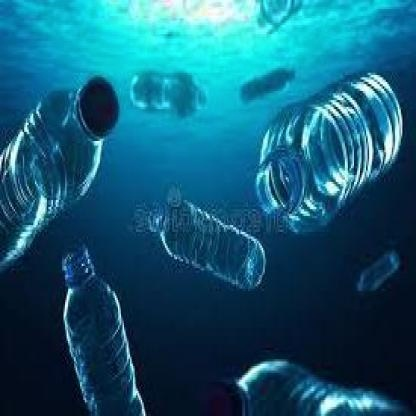pbottle: (247, 63, 410, 236), (2, 73, 127, 277), (51, 241, 153, 416), (190, 345, 416, 416), (138, 189, 269, 296), (122, 62, 208, 121), (235, 59, 296, 102), (351, 245, 399, 298)
